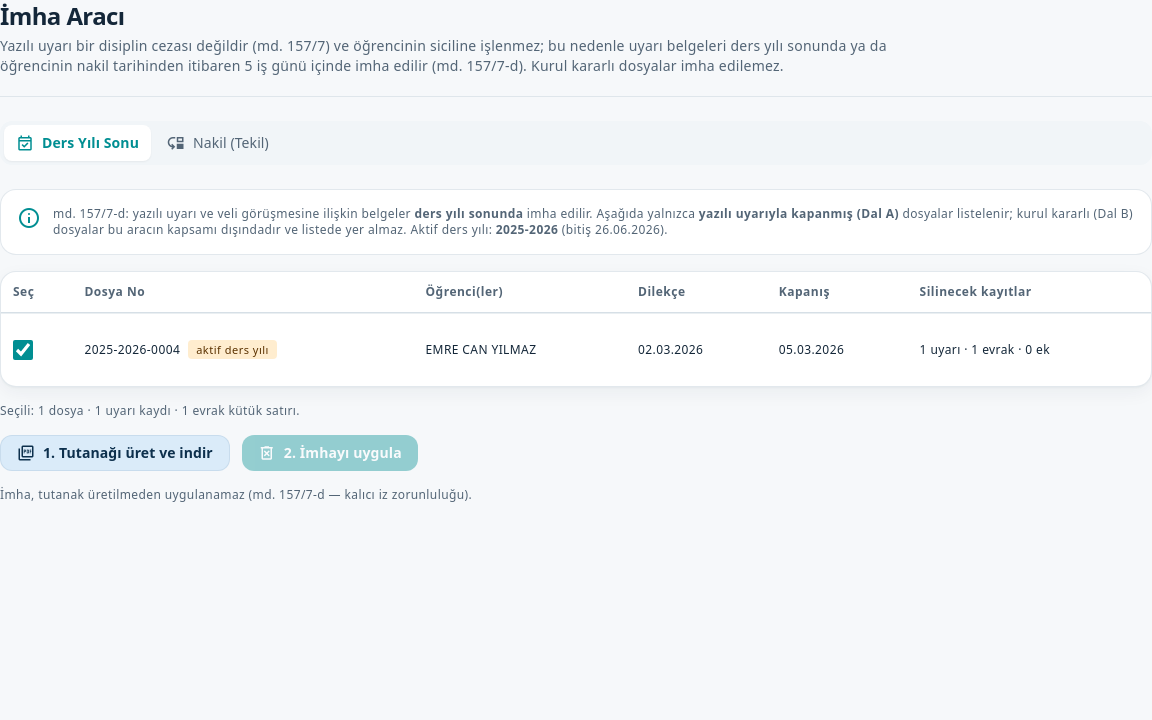
Test: ImhaPage — nakil (tekil) › tekil imhada da tutanak → imha sırası zorunludur
Check: the text "2025-2026-0004" is shown, box [84,341,180,358]
Click the tab "Nakil (Tekil)". click: (218, 143)
box: [155,125,281,161]
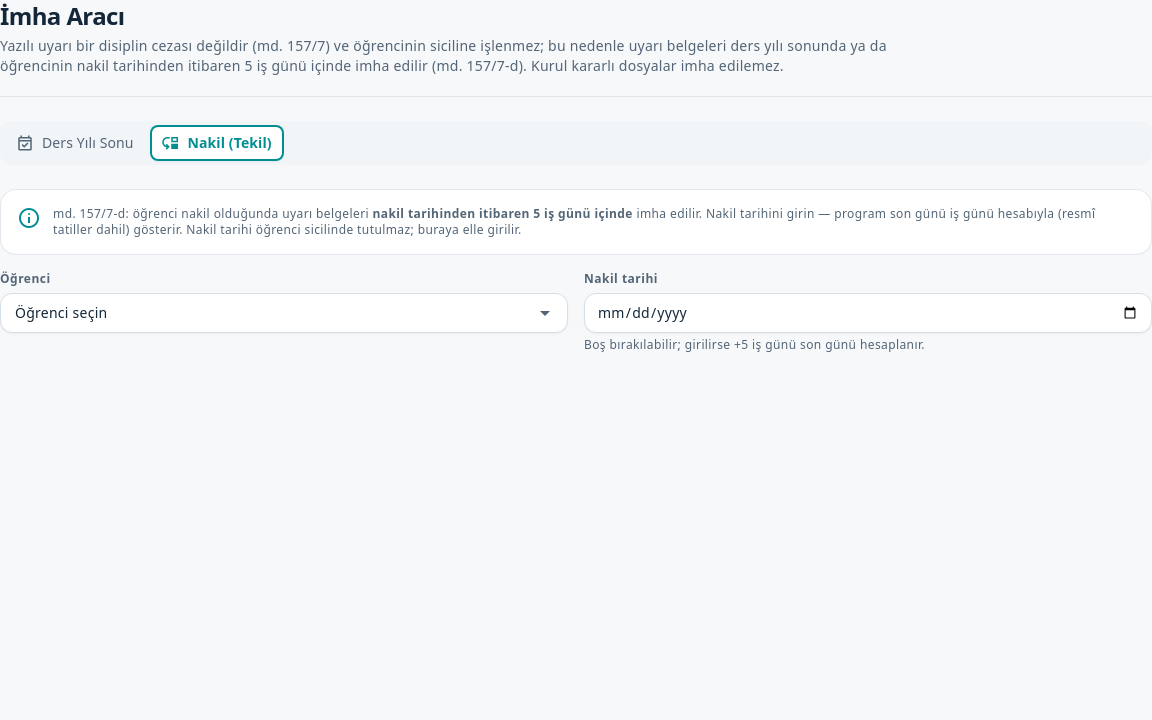
Select "EMRE CAN YILMAZ — 10/A (1 uyarı)" in the dropdown labelled "Öğrenci". click: (272, 313)
box: [11,303,533,323]
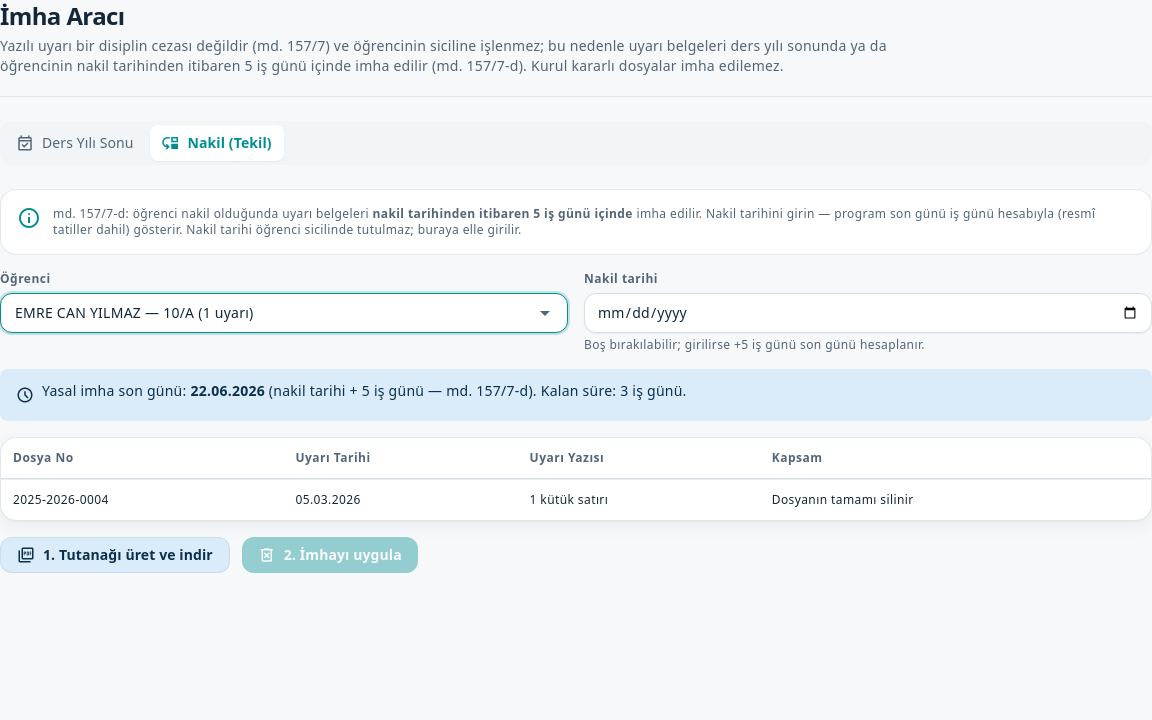
Check: the text "Yasal imha son günü" is shown, box [42,381,190,400]
Check: the button "2. İmhayı uygula" is disabled, box [242,537,418,573]
Click the button "1. Tutanağı üret ve indir". click: (115, 555)
box: [0,537,230,573]
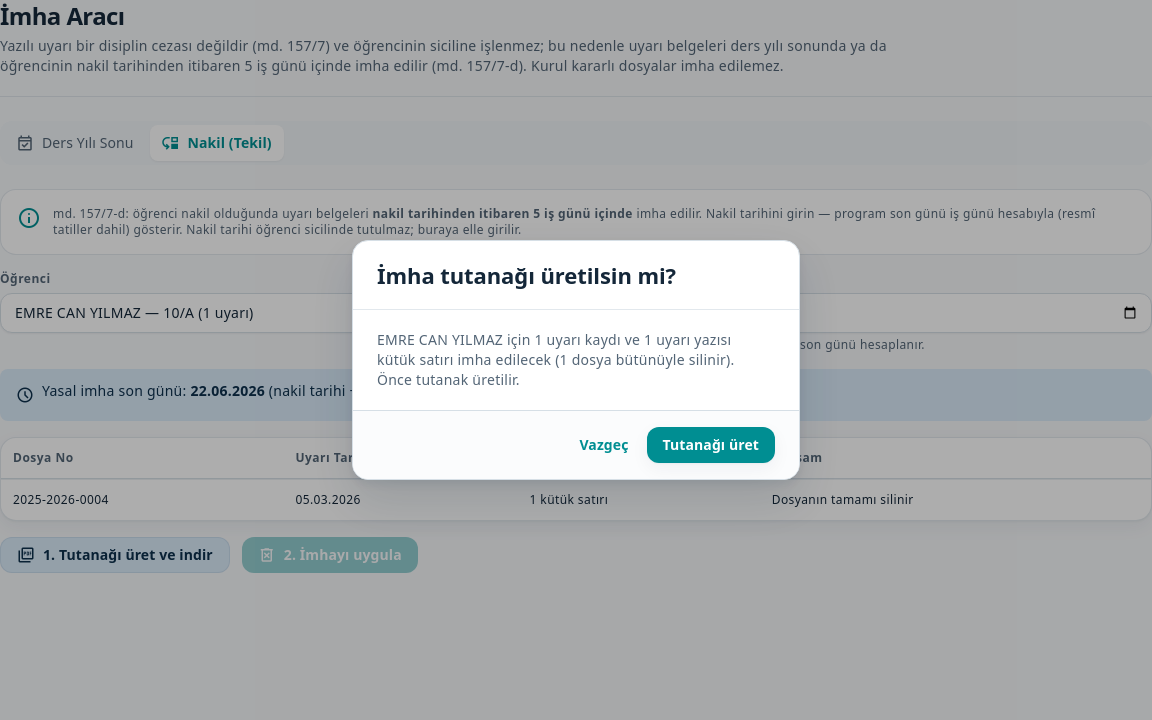
Click the button "Tutanağı üret". click: (711, 445)
box: [646,427,775,463]
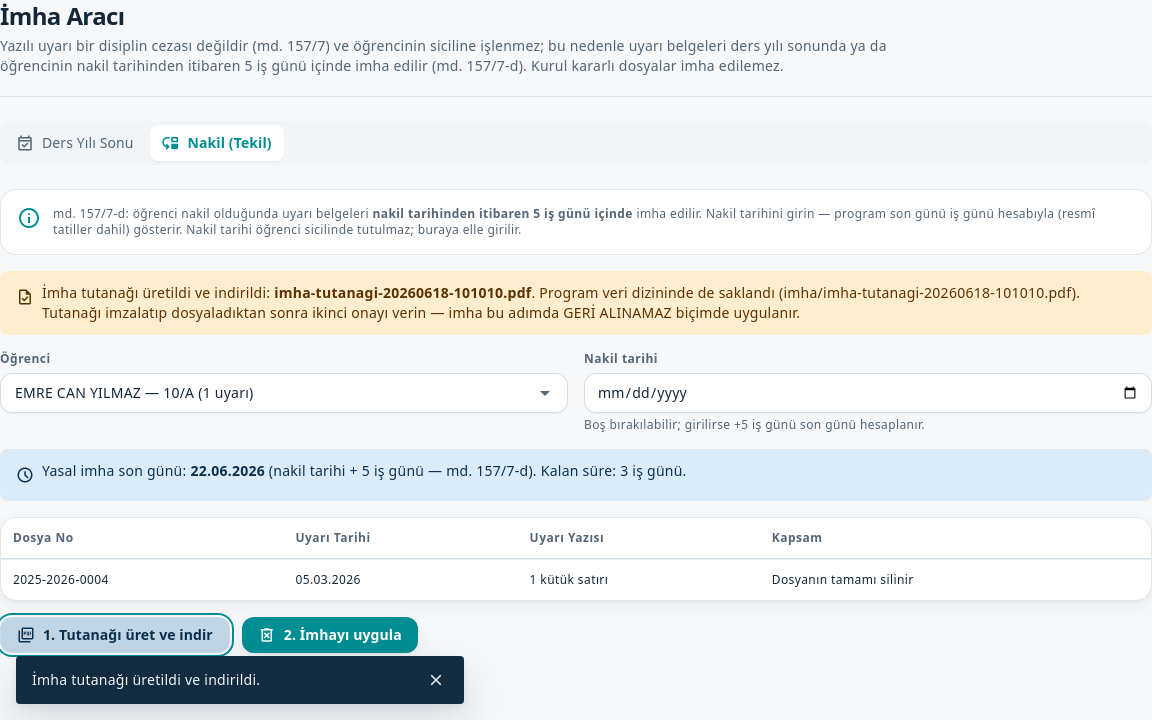
Check: the button "2. İmhayı uygula" is enabled
Click the button "2. İmhayı uygula". click: (330, 635)
box: [242,617,418,653]
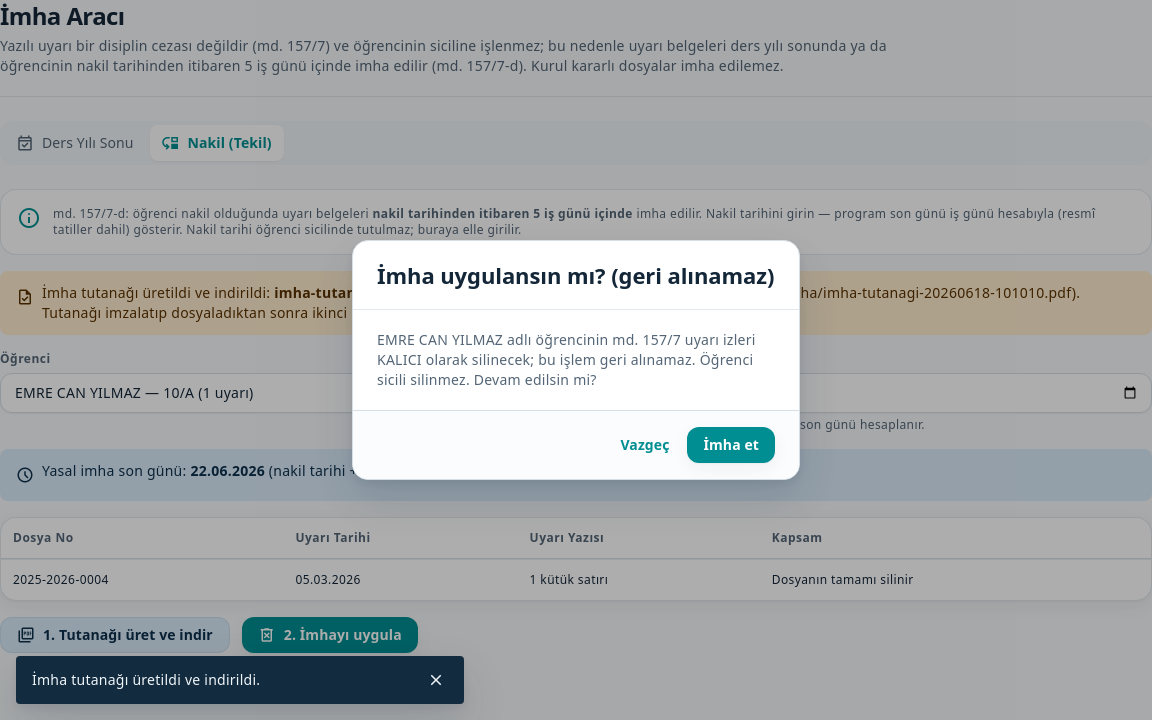
Click the button "İmha et". click: (731, 445)
box: [688,427,775,463]
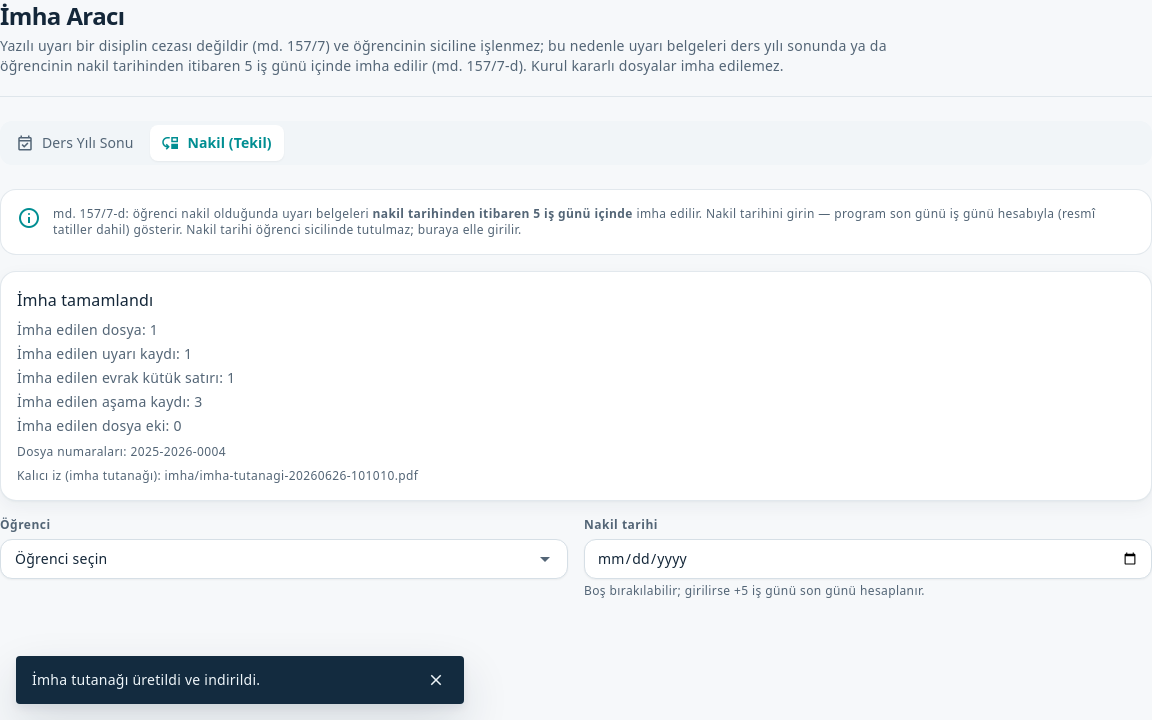
Check: the heading "İmha tamamlandı" is shown, box [17,289,153,311]
